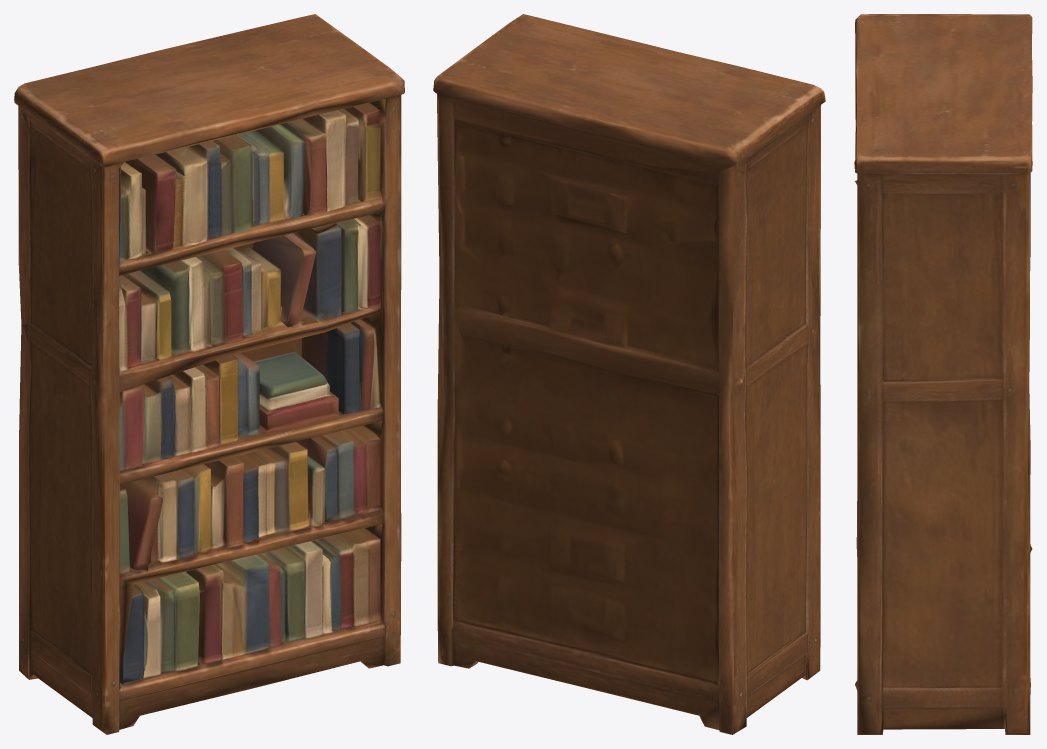
Rendered from bookshelf.glb.
The picture shows the model from 3 angles, left to right: view 1: azimuth 30°, elevation 25°; view 2: azimuth 150°, elevation 25°; view 3: azimuth 270°, elevation 25°; orthographic projection.
Parts seen in each view (by area): view 1: bookshelf; view 2: bookshelf; view 3: bookshelf.
Part boxes in pixels (left/top/right/bottom): bookshelf: left=14, top=14, right=404, bottom=734; bookshelf: left=433, top=14, right=825, bottom=734; bookshelf: left=854, top=14, right=1032, bottom=734.
Size of the model in its own units: 0.9771 by 1.8 by 0.5024.
1 material, 1 textured.
